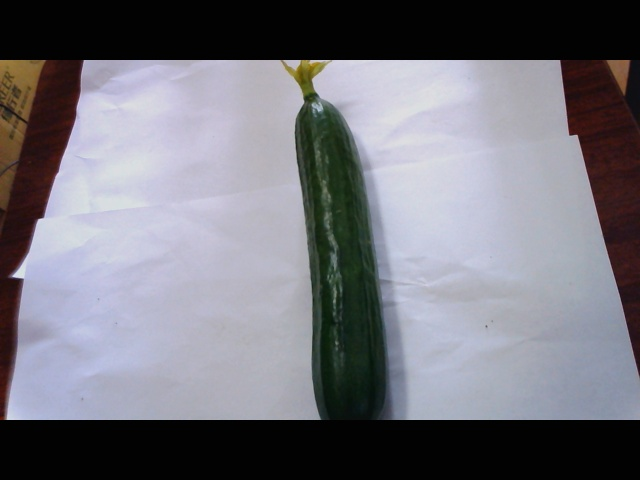cucumber: (274, 62, 413, 418)
